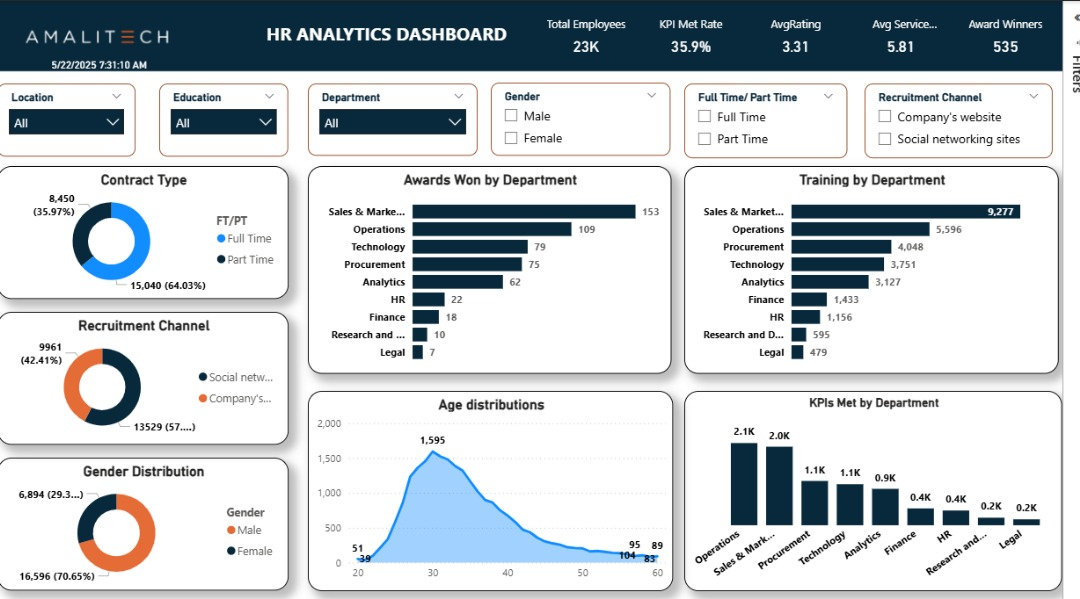

The dashboard page shown, as its layout file describes it:
{"tool":"powerbi","page":{"name":"Overview","canvas":[1280,720],"ordinal":0},"visuals":[{"type":"textbox","box":[318.3,20.4,312.9,47.6],"z":0},{"type":"slicer","fields":{"Values":["Altera_Emp_Data.Gender"]},"box":[593.1,97.9,216.3,88.4],"z":1000},{"type":"slicer","fields":{"Values":["Altera_Emp_Data.Education"]},"box":[194.5,99.3,155.1,88.4],"z":2000},{"type":"slicer","fields":{"Values":["Altera_Emp_Data.Department"]},"box":[372.7,99.3,204,87.1],"z":3000},{"type":"slicer","fields":{"Values":["Altera_Emp_Data.Location"]},"box":[0,99.3,166,88.4],"z":4000},{"type":"donutChart","title":"Gender Distribution","fields":{"Category":["Altera_Emp_Data.Gender"],"Y":["CountNonNull(Altera_Emp_Data.Age)"]},"box":[0,549.9,350.2,160],"z":5000},{"type":"barChart","title":"Awards Won by Department","fields":{"Y":["Sum(Altera_Emp_Data.Awards_Won)"],"Category":["Altera_Emp_Data.Department"]},"box":[372.7,198.6,436.6,250.3],"z":6000},{"type":"barChart","title":"Training by Department","fields":{"Category":["Altera_Emp_Data.Department"],"Y":["Sum(Altera_Emp_Data.Number_of_Trainings)"]},"box":[825.7,198.6,450.2,250.3],"z":7000},{"type":"donutChart","title":"Contract Type","fields":{"Y":["CountNonNull(Altera_Emp_Data.Age)"],"Series":["Altera_Emp_Data.FT/PT"]},"box":[0,198.5,350.2,160],"z":8000},{"type":"card","title":"Total Awards Won","fields":{"Values":["Altera_Emp_Data.current_date"]},"box":[27.3,63.4,188.9,24],"z":9000},{"type":"slicer","fields":{"Values":["Altera_Emp_Data.FT/PT"]},"box":[825.7,99.3,195.9,89.8],"z":10000},{"type":"columnChart","title":"KPIs Met  by Department","fields":{"Y":["Sum(Altera_Emp_Data.KPIs_met >80%)"],"Category":["Altera_Emp_Data.Department"]},"box":[825.7,469.3,454.3,240.8],"z":11000},{"type":"areaChart","title":"Age distributions","fields":{"Category":["Altera_Emp_Data.Age"],"Y":["CountNonNull(Altera_Emp_Data.EmpID)"]},"box":[372.7,469.3,439.4,240.8],"z":12000},{"type":"cardVisual","fields":{"Data":["MeasureTable.TotalEmployees","MeasureTable.KPIMetRate","MeasureTable.AvgRating","MeasureTable.AvgServiceYears","MeasureTable.AwardWinners"]},"box":[640.7,0,639.3,84.3],"z":13000},{"type":"slicer","fields":{"Values":["Altera_Emp_Data.Recruitment_Channell"]},"box":[1042,99.3,225.8,89.8],"z":14000},{"type":"donutChart","title":"Recruitment Channel","fields":{"Y":["CountNonNull(Altera_Emp_Data.Recruitment_Channell)"],"Category":["Altera_Emp_Data.Recruitment_Channell"]},"box":[0,374.2,350.2,160],"z":15000}]}

Visuals, with their boxes in screenshot pixels (x1, y1, x2, y2), scaled from the page's 1280x720 canvas onto the 1080x599 screenshot:
textbox: <box>269,17,533,57</box>
slicer - Altera_Emp_Data.Gender: <box>500,81,683,155</box>
slicer - Altera_Emp_Data.Education: <box>164,83,295,156</box>
slicer - Altera_Emp_Data.Department: <box>314,83,487,155</box>
slicer - Altera_Emp_Data.Location: <box>0,83,140,156</box>
"Gender Distribution" donutChart: <box>0,457,295,591</box>
"Awards Won by Department" barChart: <box>314,165,683,373</box>
"Training by Department" barChart: <box>697,165,1077,373</box>
"Contract Type" donutChart: <box>0,165,295,298</box>
"Total Awards Won" card: <box>23,53,182,73</box>
slicer - Altera_Emp_Data.FT/PT: <box>697,83,862,157</box>
"KPIs Met  by Department" columnChart: <box>697,390,1079,591</box>
"Age distributions" areaChart: <box>314,390,685,591</box>
cardVisual - MeasureTable.TotalEmployees x MeasureTable.KPIMetRate: <box>541,0,1079,70</box>
slicer - Altera_Emp_Data.Recruitment_Channell: <box>879,83,1070,157</box>
"Recruitment Channel" donutChart: <box>0,311,295,444</box>
